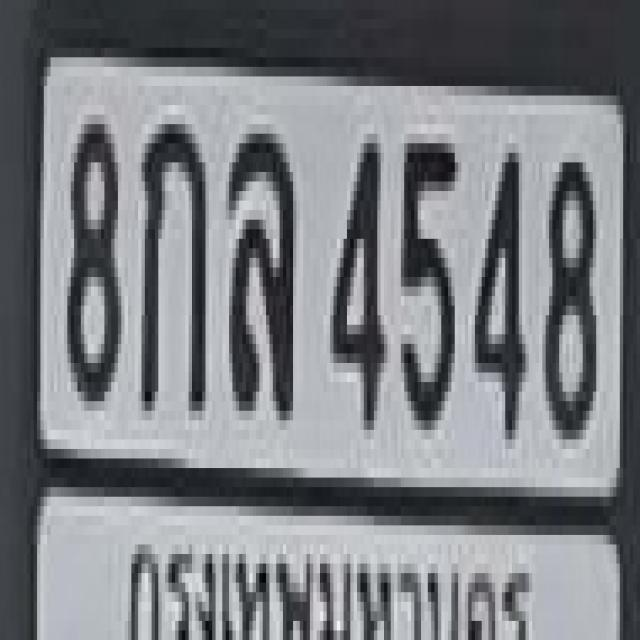4: (326, 124, 381, 420), (472, 143, 522, 430)
5: (397, 134, 455, 420)
8: (64, 115, 118, 392), (542, 153, 593, 430)
A01: (138, 115, 202, 401)
A36: (224, 124, 291, 401)
